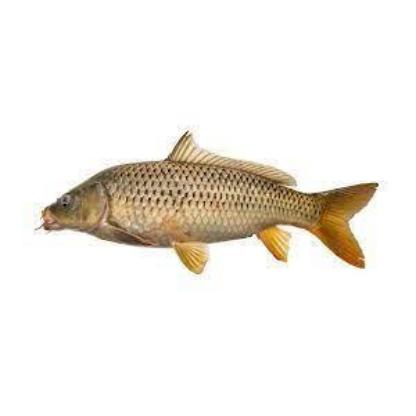ikan-mas: (40, 146, 366, 272)
